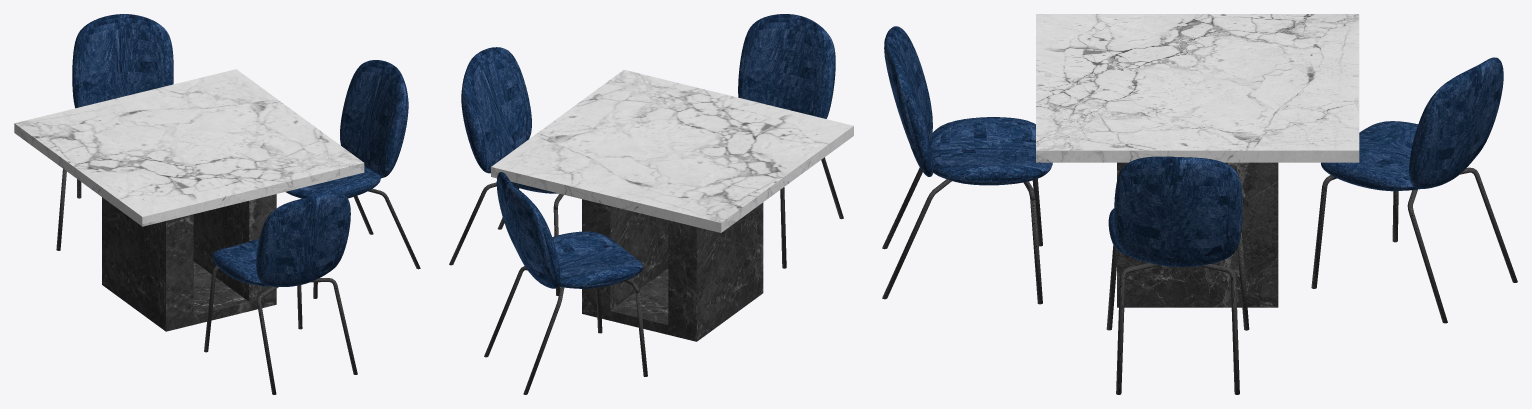
The model's file is conpany21.gltf.
3 views of the same model, side by side, from view 1: azimuth 30°, elevation 25°; view 2: azimuth 150°, elevation 25°; view 3: azimuth 270°, elevation 25° (orthographic). The views are drawn at different scales.
Parts seen in each view (by area): view 1: G-__556185_3, G-__556185_1, G-__556185_4, G-__556185_2; view 2: G-__556185_3, G-__556185_1, G-__556185_4, G-__556185_2; view 3: G-__556185_3, G-__556185_1, G-__556185_4, G-__556185_2.
Boxes of the visible parts, left/top/right/bottom form: G-__556185_3: left=14, top=69, right=364, bottom=226; G-__556185_1: left=72, top=14, right=408, bottom=286; G-__556185_4: left=102, top=194, right=276, bottom=331; G-__556185_2: left=56, top=169, right=420, bottom=394; G-__556185_3: left=491, top=70, right=853, bottom=232; G-__556185_1: left=461, top=14, right=835, bottom=288; G-__556185_4: left=582, top=199, right=763, bottom=341; G-__556185_2: left=449, top=157, right=843, bottom=394; G-__556185_3: left=1036, top=14, right=1359, bottom=162; G-__556185_1: left=884, top=26, right=1503, bottom=266; G-__556185_4: left=1117, top=162, right=1278, bottom=307; G-__556185_2: left=882, top=167, right=1517, bottom=394.
Size of the model in its own units: 10.72 by 6.19 by 15.07.
4 materials, 4 textured.
